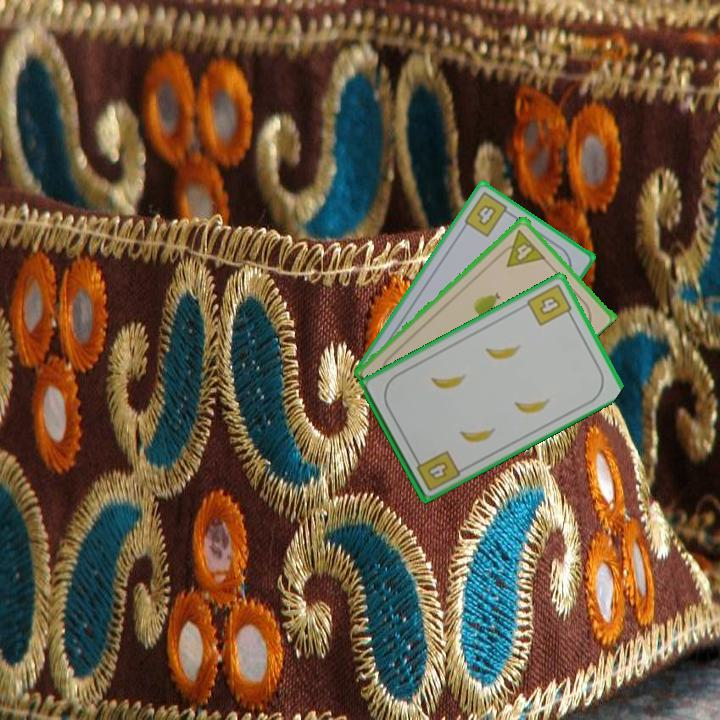4b: (460, 188, 516, 240), (523, 280, 576, 329), (411, 446, 463, 494)
4p: (495, 226, 547, 270)
